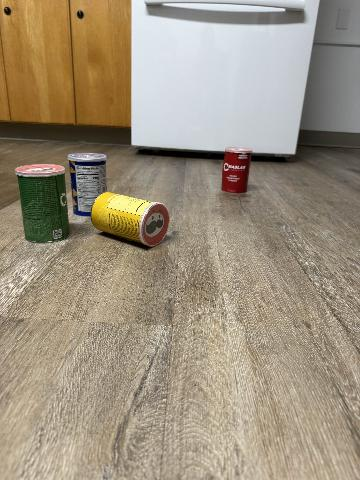Golden Can: (92, 193, 168, 246)
Green Can: (16, 164, 69, 242)
Red Can: (222, 148, 252, 193)
